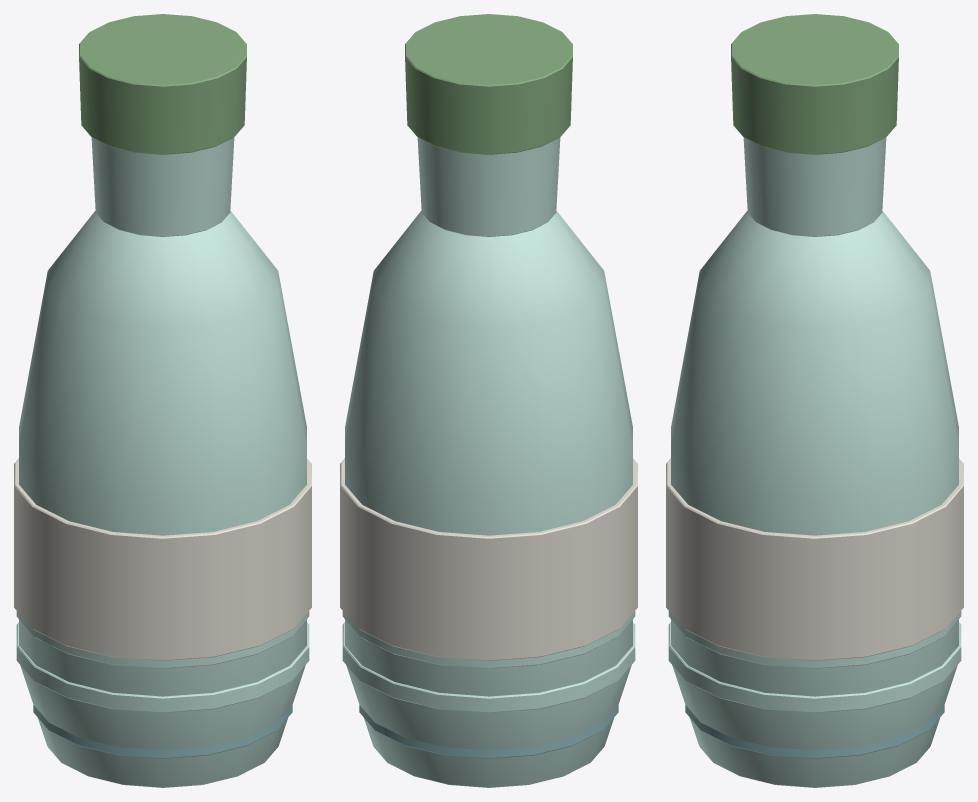
File: IT_water_bottle.fbx
3 renders of one model, left to right at view 1: azimuth 30°, elevation 25°; view 2: azimuth 150°, elevation 25°; view 3: azimuth 270°, elevation 25°, orthographic.
Visible parts, largest first — view 1: IT_water_bottle; view 2: IT_water_bottle; view 3: IT_water_bottle.
Boxes of the visible parts, x1,y1,x2,y2 form: IT_water_bottle: (14, 14, 311, 787); IT_water_bottle: (340, 14, 637, 787); IT_water_bottle: (666, 14, 963, 787).
Size of the model in its own units: 0.31 by 0.78 by 0.3053.
